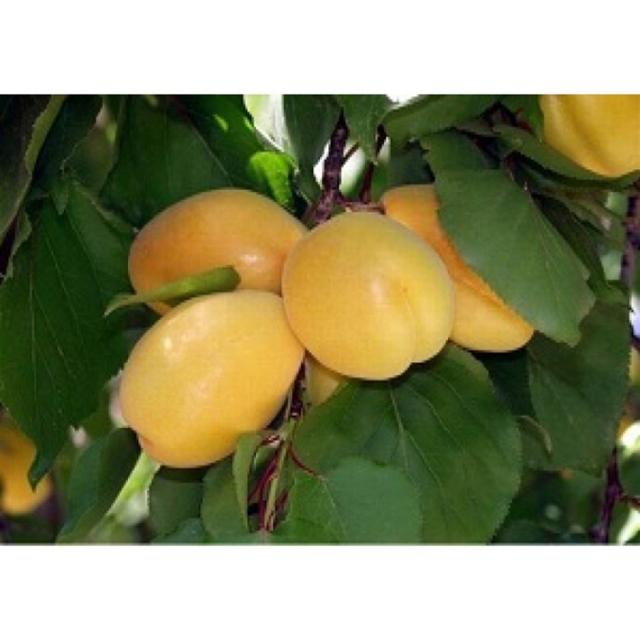kayisi: (301, 242, 444, 334), (175, 220, 270, 302)
yaprak: (347, 421, 472, 529), (53, 245, 95, 412)
